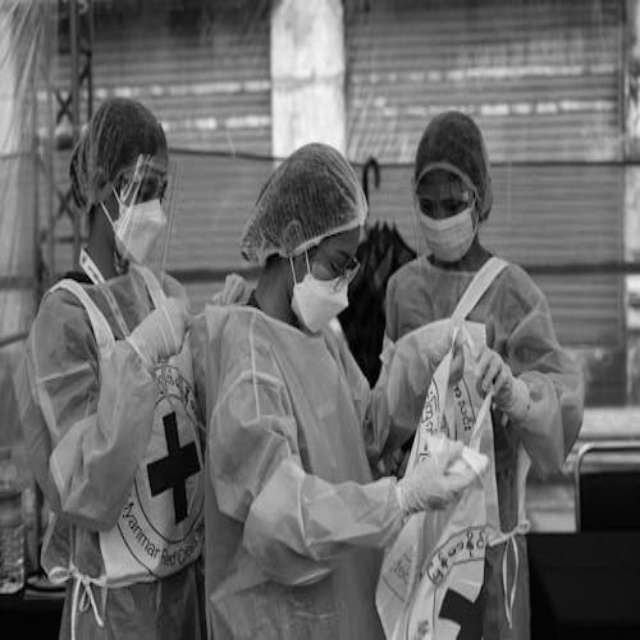Gafas: (314, 236, 365, 298)
Guantes: (397, 438, 486, 523), (123, 286, 193, 369), (474, 340, 527, 425)
Mascara: (104, 174, 170, 269), (288, 246, 355, 334), (416, 185, 479, 263)
